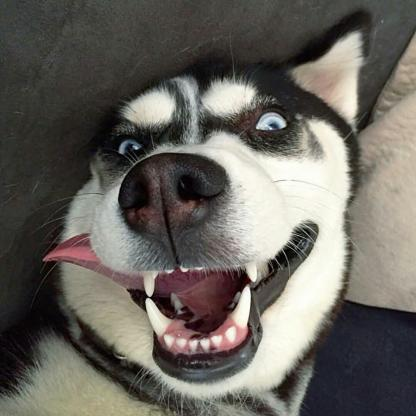husky: (5, 8, 371, 416)
